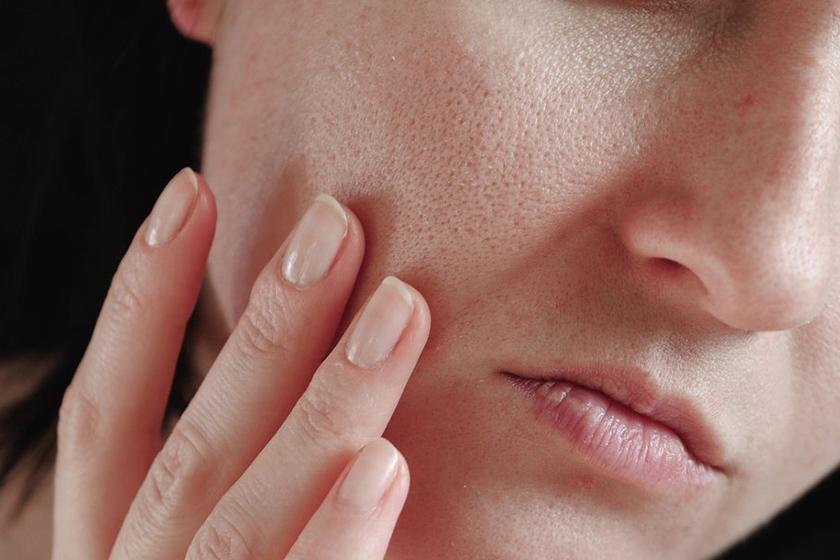Dry-Skin: (250, 34, 765, 262)
